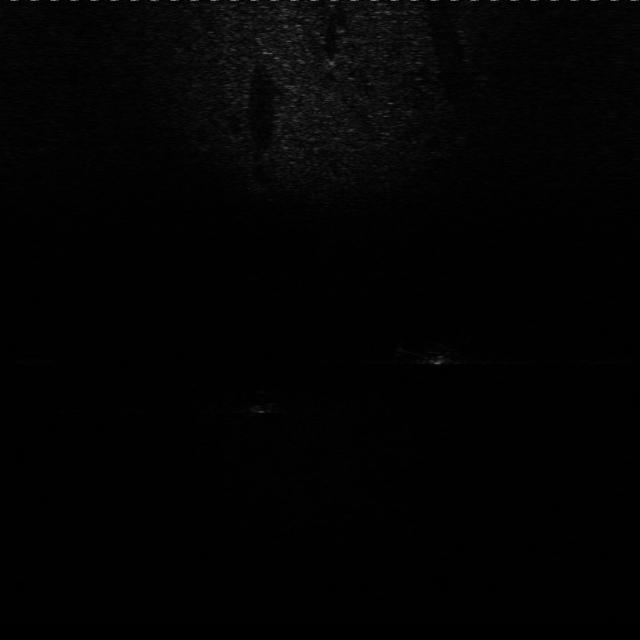ball: (246, 392, 280, 416)
human body: (392, 346, 462, 369)
